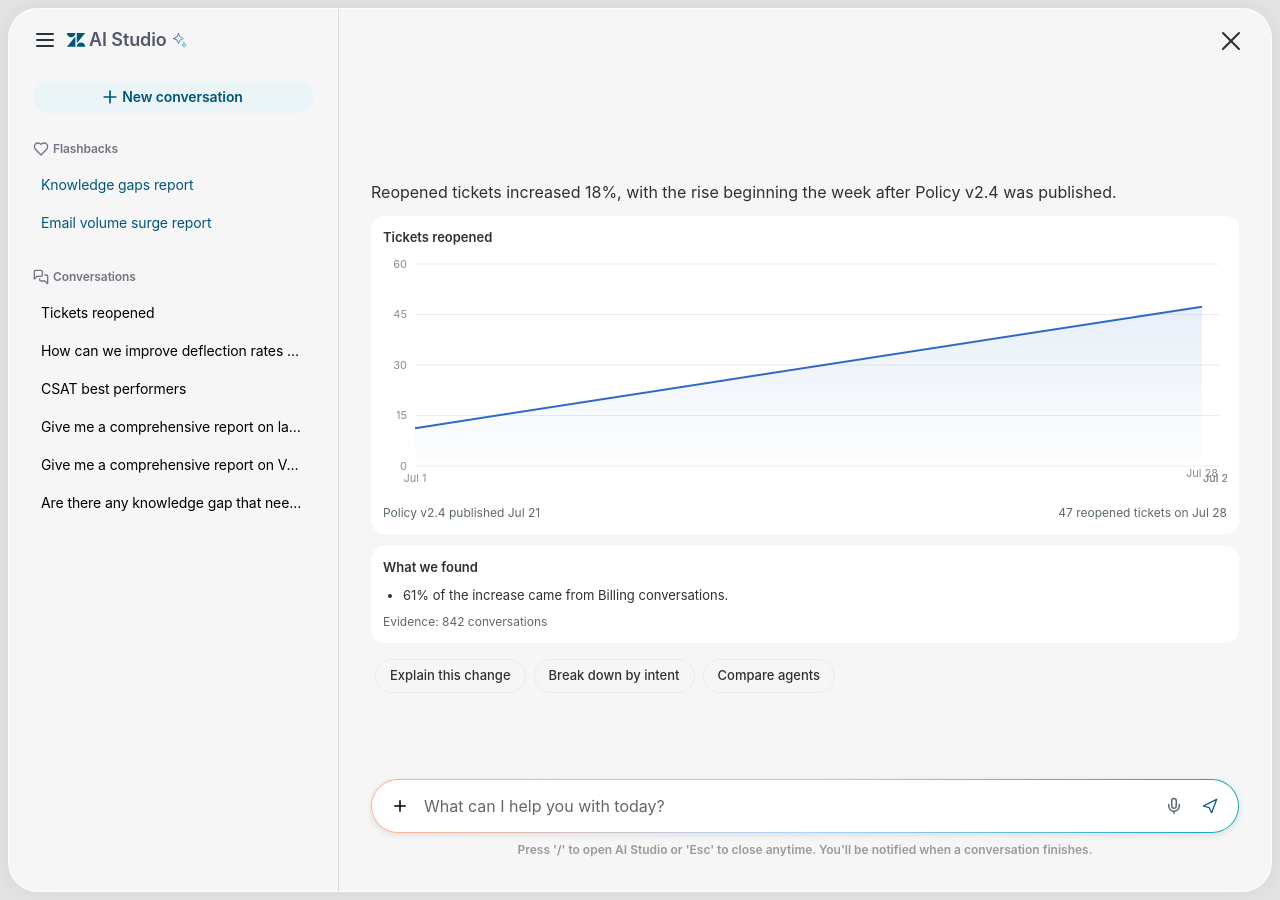
Test case: AiStudioConversation › clicking a chip with no scripted response falls back to the generic canned reply with no new chips
Click the button "Compare agents": (769, 676) [702,659,835,692]
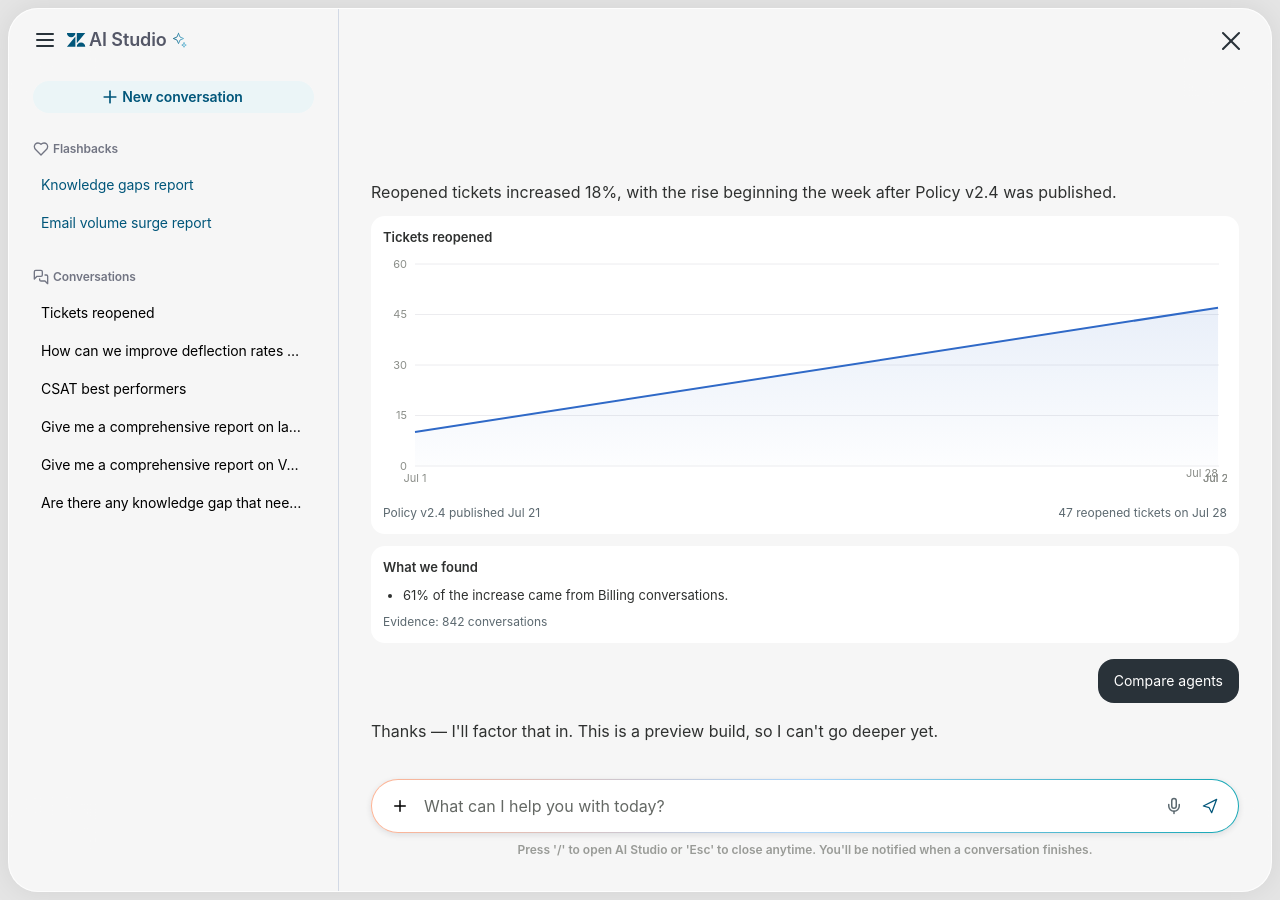
Check: the element with test id "ai-studio-conversation-body" shows "Thanks — I'll factor that in. This is a preview build, so I can't go deeper yet.", box [371,721,938,741]
